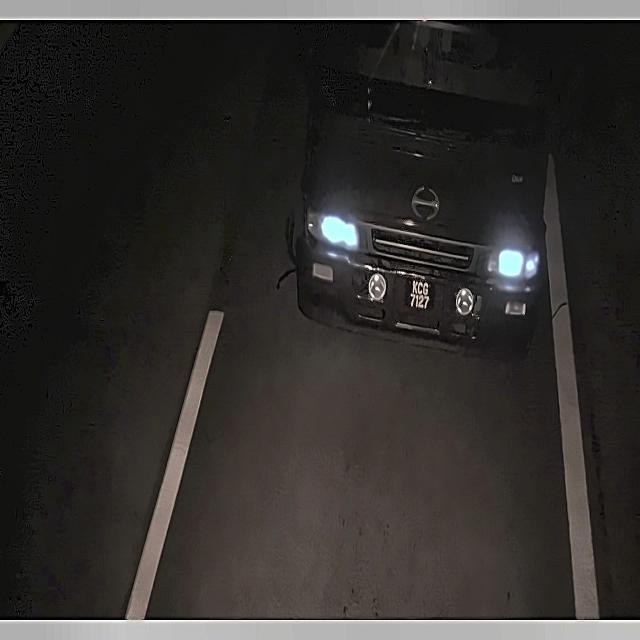car: (402, 272, 436, 316)
